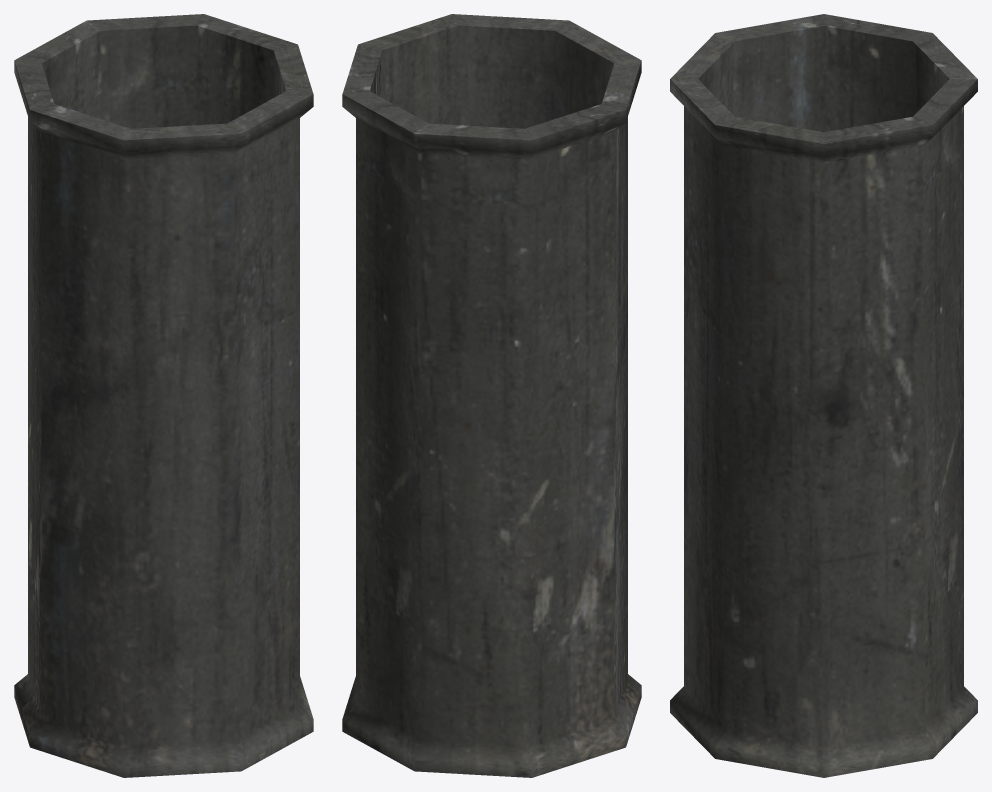
File: SM_Corridor_Pipe_Gray_A.fbx
3 renders of one model, left to right at view 1: azimuth 30°, elevation 25°; view 2: azimuth 150°, elevation 25°; view 3: azimuth 270°, elevation 25°, orthographic.
Parts seen in each view (by area): view 1: SM_Corridor_Pipe_Gray_A; view 2: SM_Corridor_Pipe_Gray_A; view 3: SM_Corridor_Pipe_Gray_A.
Boxes of the visible parts, <box> form: SM_Corridor_Pipe_Gray_A: <box>14,14,313,777</box>; SM_Corridor_Pipe_Gray_A: <box>342,14,641,777</box>; SM_Corridor_Pipe_Gray_A: <box>670,14,977,777</box>.
Bounding box in the file's own units: 22 × 50 × 22.
